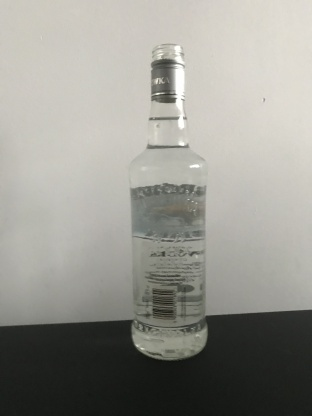nakretka: (149, 41, 186, 102)
